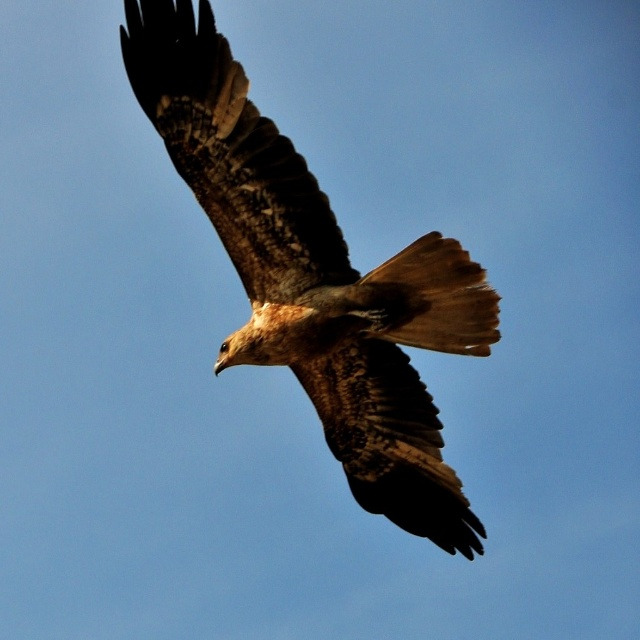Eagle: (118, 0, 504, 563)
